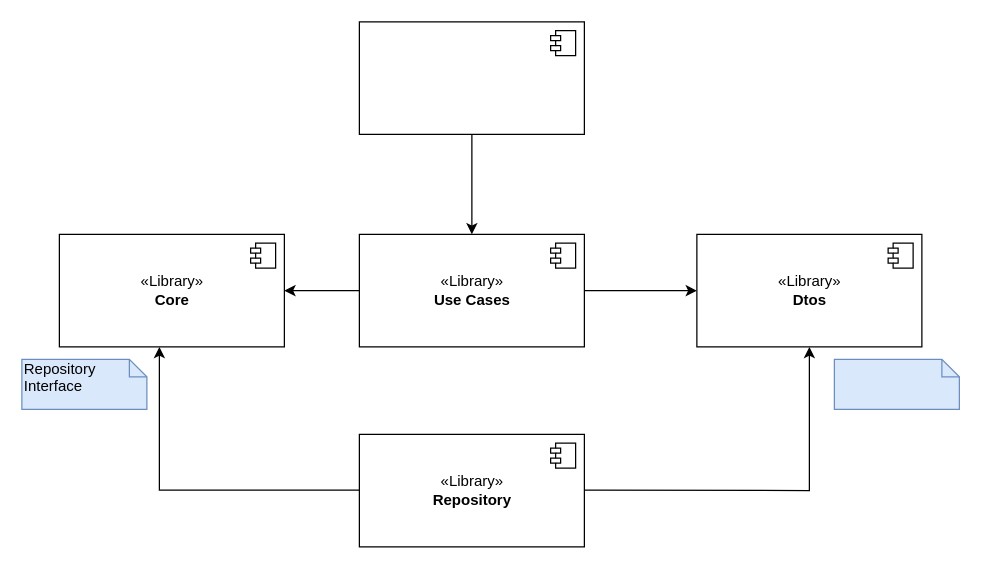
Some shapes in this 981 by 569 pixel diagram are drawn without their labels. The shapes that lost their labels are listed below. From the top down, each one's box as (x1, y1, x2, y2) in pixels, then its label:
(358, 21, 584, 134): «Library» API
(833, 358, 959, 409): - Requests - Responses
